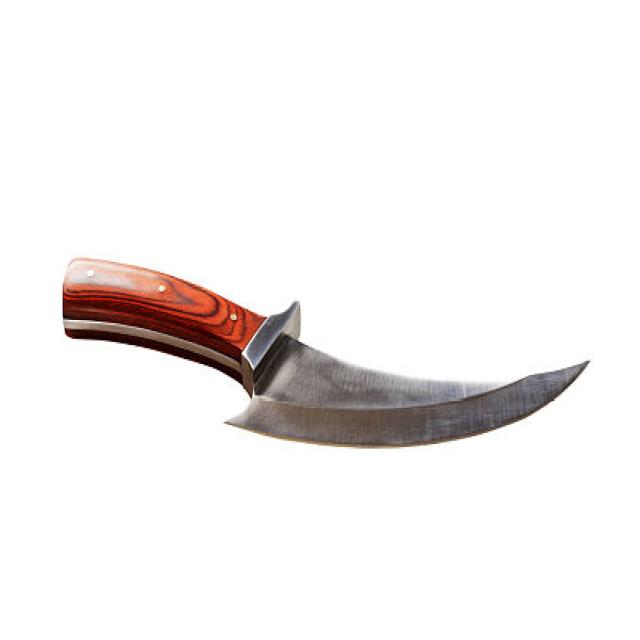knife: (58, 251, 591, 485)
